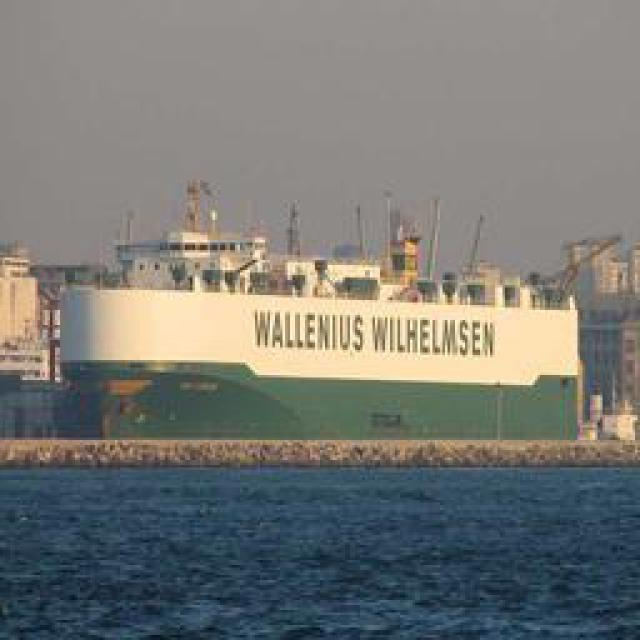Ship: (53, 203, 591, 431)
